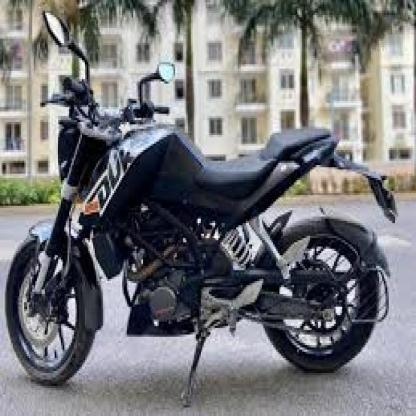bike: (6, 11, 398, 406)
